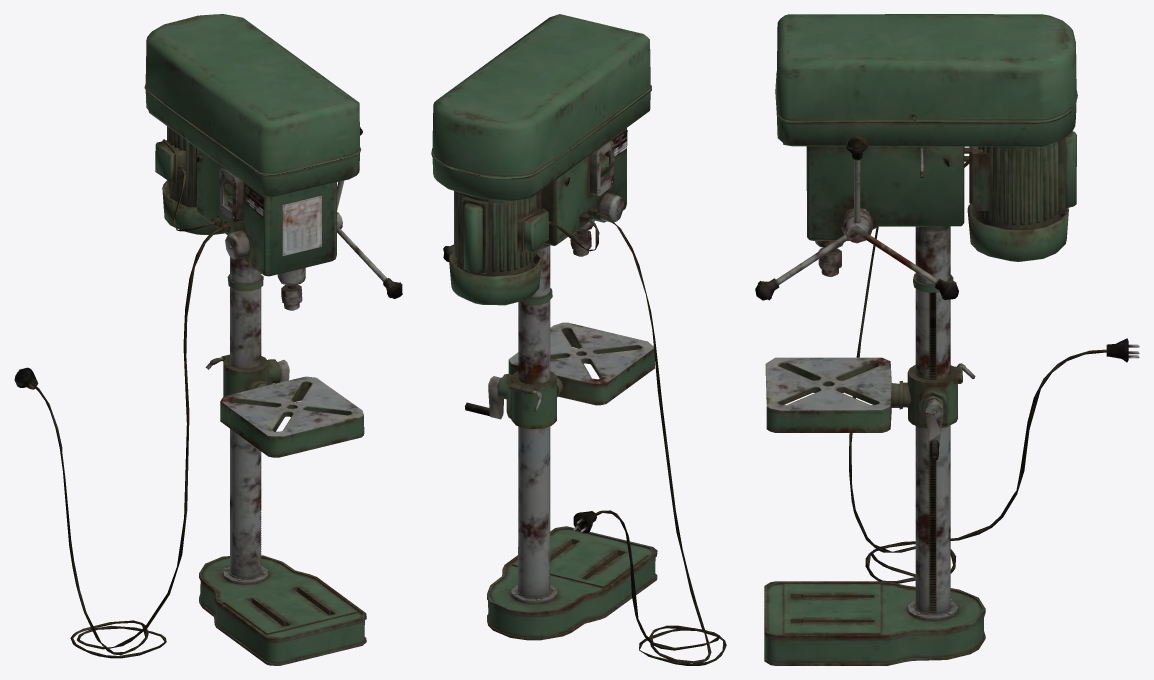
File: old_drill_press.glb
The picture shows the model from 3 angles, left to right: view 1: azimuth 30°, elevation 25°; view 2: azimuth 150°, elevation 25°; view 3: azimuth 270°, elevation 25°; orthographic projection. The views are drawn at different scales.
Parts seen in each view (by area): view 1: old_drill_press_cable; view 2: old_drill_press_cable; view 3: old_drill_press_cable.
Part boxes in pixels (<box>): old_drill_press_cable: <box>14,14,402,665</box>; old_drill_press_cable: <box>431,14,726,665</box>; old_drill_press_cable: <box>755,14,1139,665</box>.
Bounding box in the file's own units: 0.5269 × 1.05 × 0.6087.
Materials: 1 (1 with a texture image).
